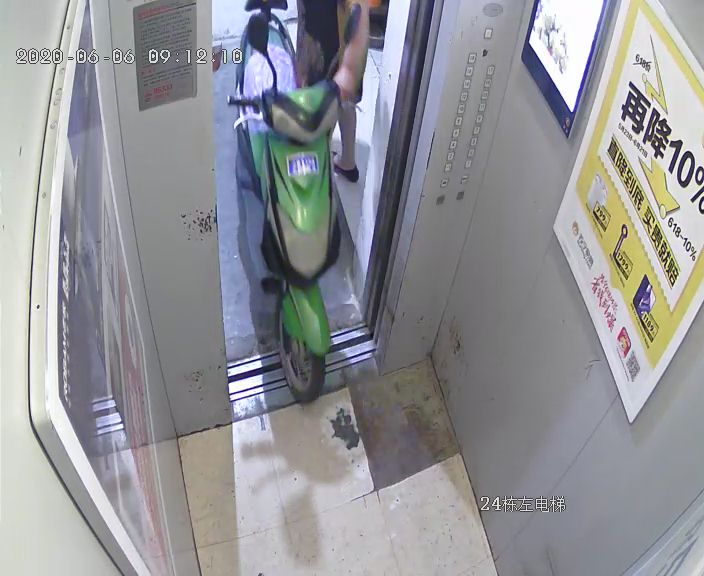Electric-bicycle: (225, 1, 366, 405)
